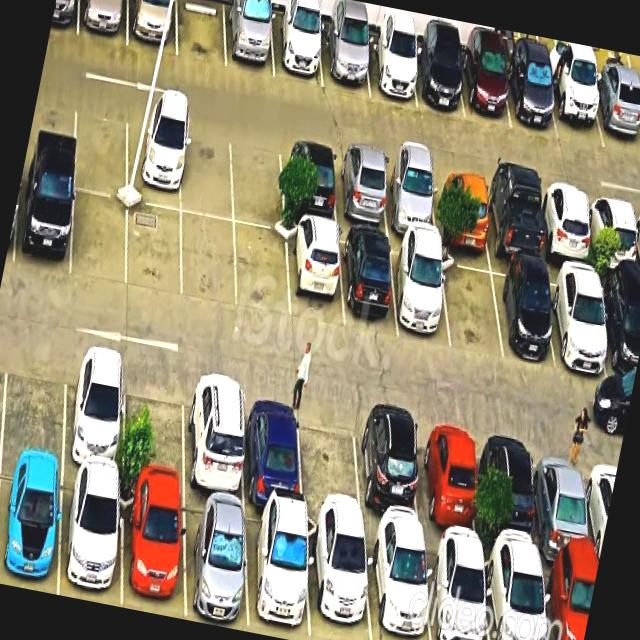car: (183, 493, 249, 629), (355, 406, 423, 537), (0, 458, 63, 595), (246, 506, 310, 640), (122, 481, 185, 617), (59, 469, 121, 605), (63, 345, 125, 478), (417, 415, 479, 548), (307, 517, 371, 640), (535, 436, 595, 566), (186, 371, 245, 503), (244, 382, 302, 511), (485, 427, 541, 557), (365, 531, 431, 640), (546, 265, 609, 376), (490, 260, 554, 363), (390, 240, 450, 348), (425, 539, 489, 640), (14, 174, 75, 277), (340, 230, 398, 334), (288, 220, 343, 327), (483, 549, 547, 640), (127, 108, 182, 210), (484, 176, 543, 263), (433, 166, 490, 251), (281, 139, 338, 224), (598, 274, 640, 387), (541, 558, 598, 640), (382, 156, 438, 239), (334, 148, 389, 232), (547, 67, 604, 148), (539, 184, 593, 267), (587, 192, 640, 275), (505, 56, 558, 138), (460, 48, 511, 128), (590, 75, 640, 155), (411, 43, 464, 118), (271, 11, 323, 87), (365, 33, 417, 107), (225, 1, 274, 78), (321, 25, 369, 95), (128, 0, 177, 55), (78, 0, 128, 45)
free: (1, 336, 67, 464), (300, 395, 363, 526), (124, 358, 185, 491), (440, 251, 503, 358), (71, 190, 128, 287), (231, 129, 284, 232), (74, 97, 127, 197), (182, 213, 237, 308), (181, 120, 233, 220), (128, 202, 181, 300), (235, 225, 290, 319), (177, 0, 227, 67)
